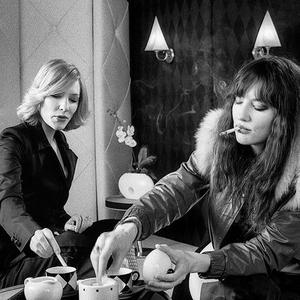cigarette: (55, 248, 73, 274), (219, 125, 245, 138)
